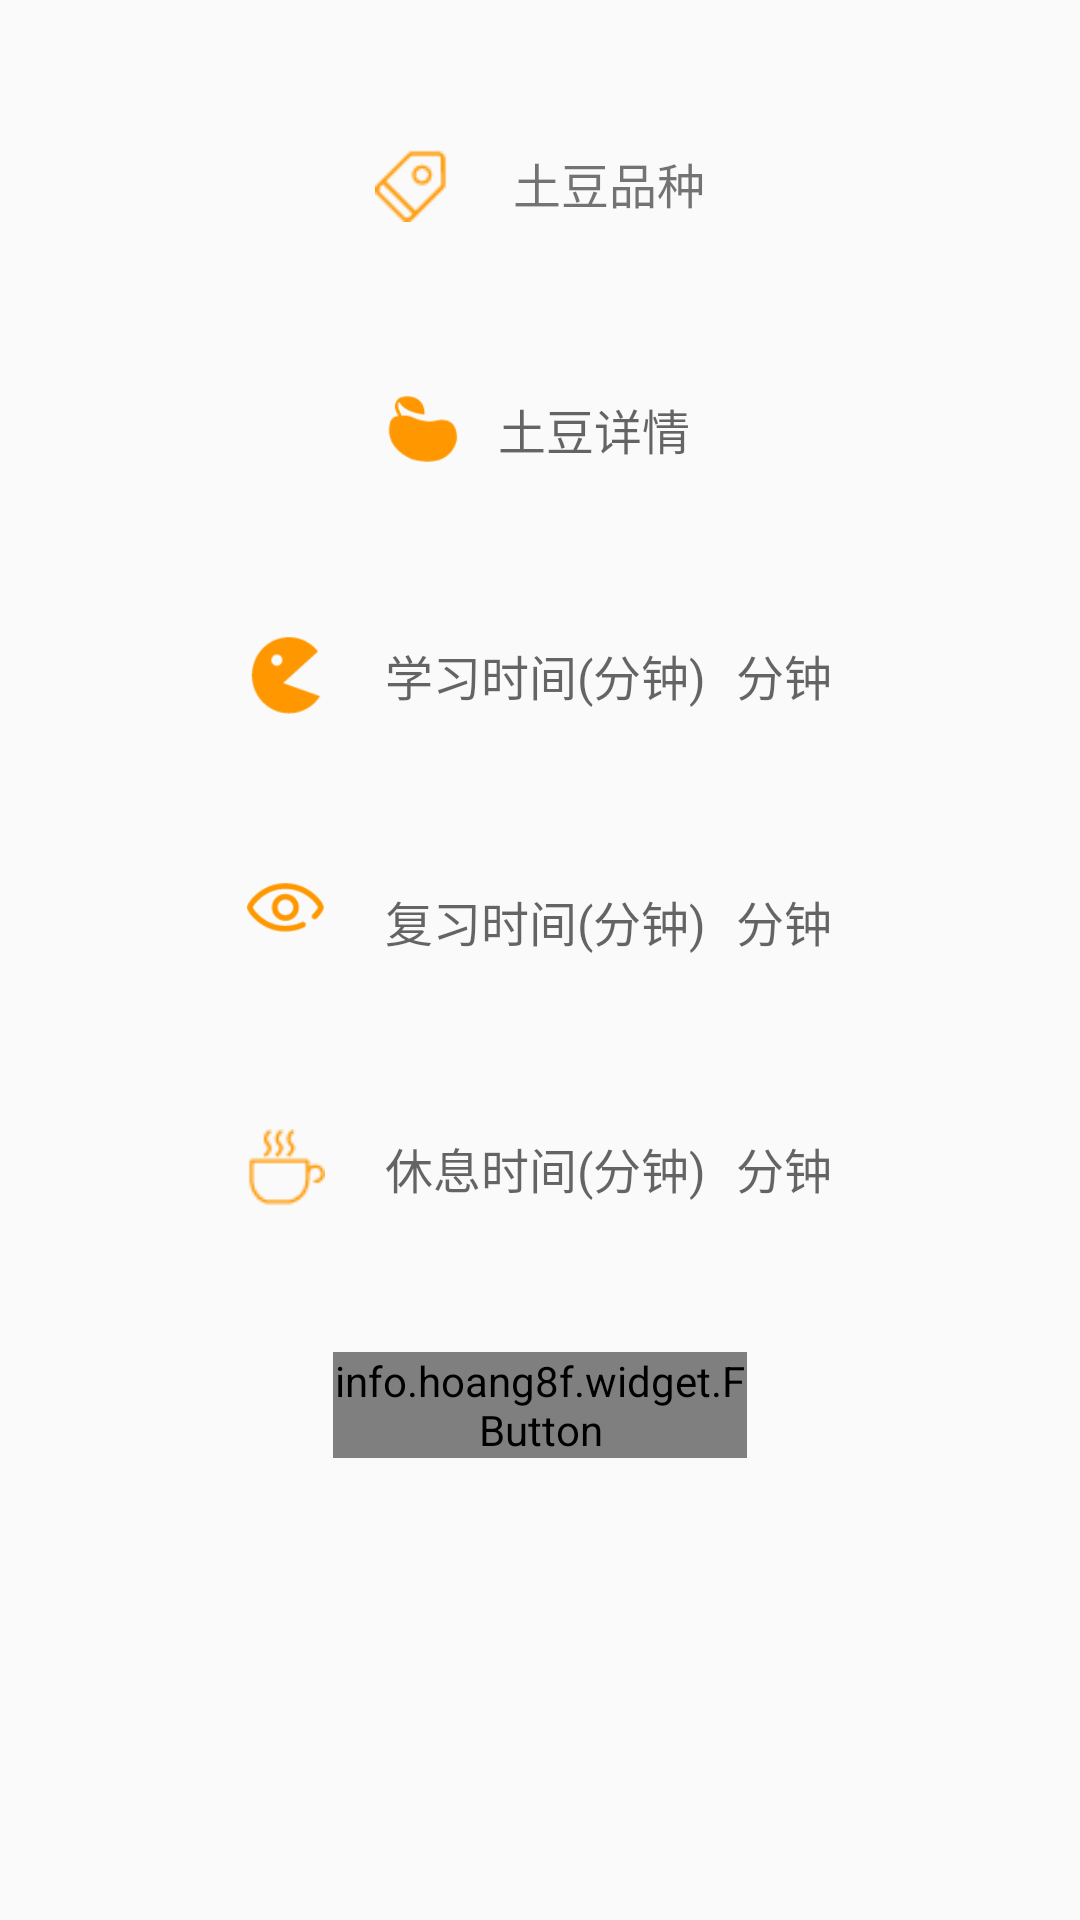

Icons on this 1080px×1920px Android screen, each with the point to tap as [x,y]:
rest: [287,1167]
review: [285,907]
